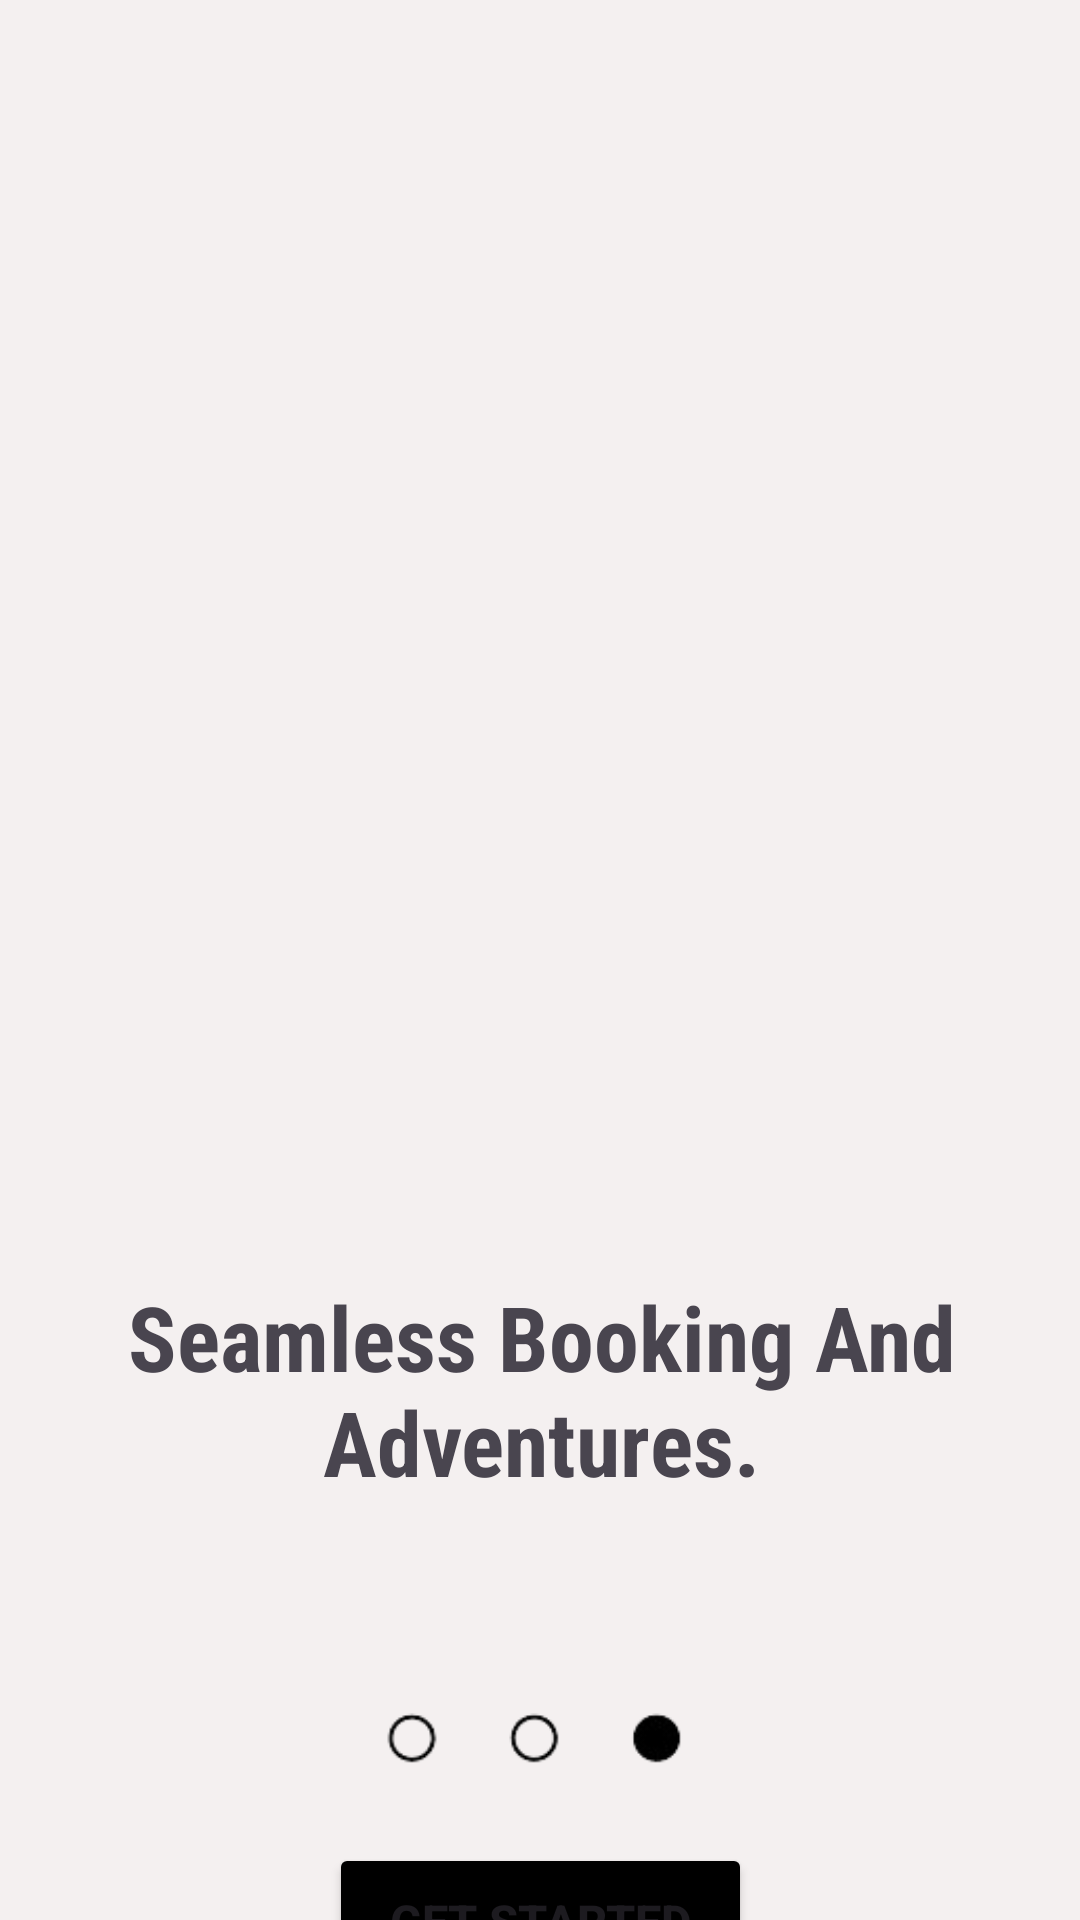

Named icons in this screenshot (1080×1920) and their centers, (x=x, y=y):
dot: (x=534, y=1738)
